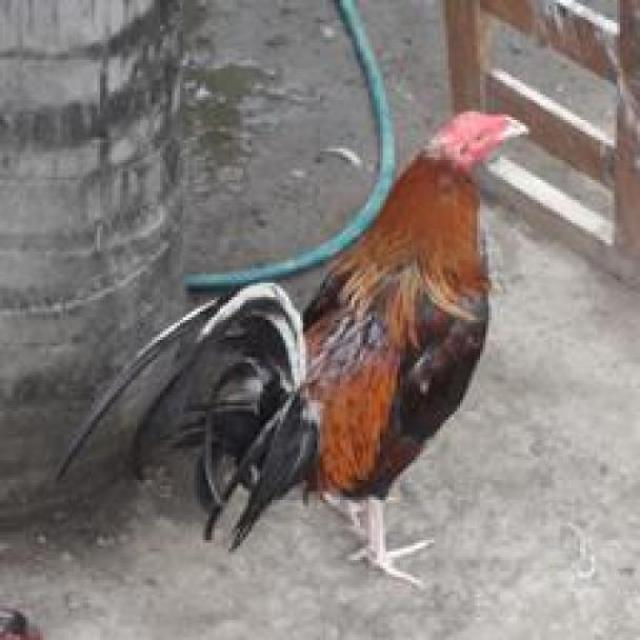Chicken: (223, 96, 598, 584)
